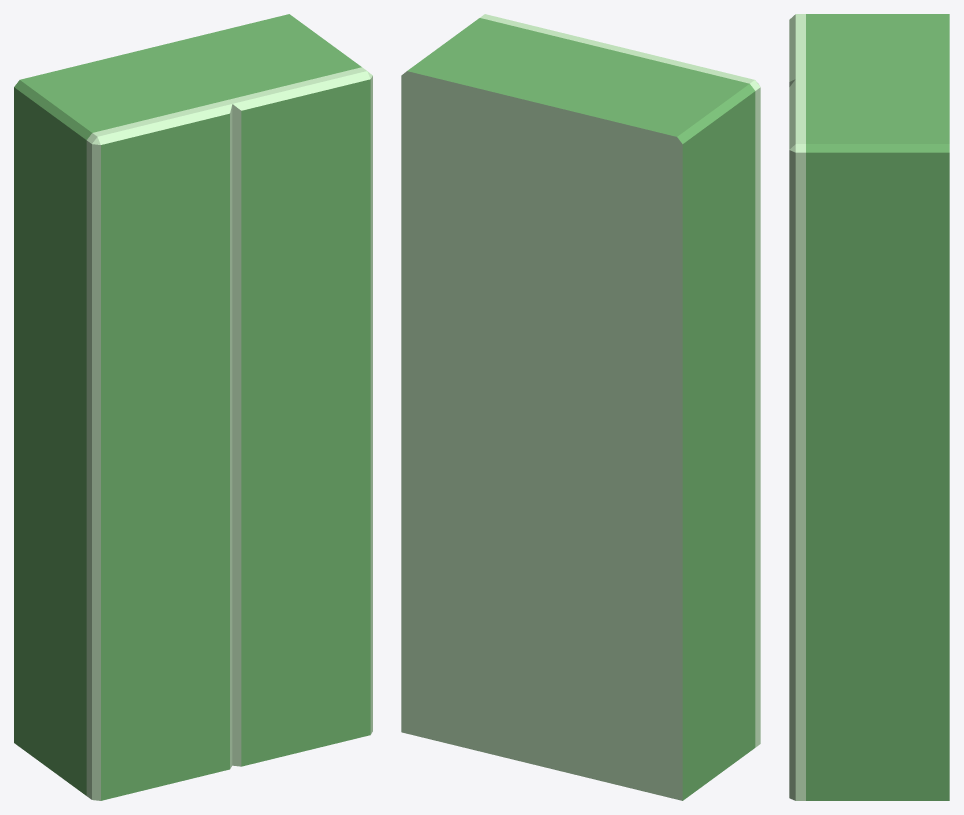
The model's file is Refridgerator.fbx.
The picture shows the model from 3 angles, left to right: view 1: azimuth 30°, elevation 25°; view 2: azimuth 150°, elevation 25°; view 3: azimuth 270°, elevation 25°; orthographic projection.
Visible parts, largest first — view 1: LeftDoor, RightDoor, RefridgeratorBase; view 2: RefridgeratorBase, LeftDoor, RightDoor; view 3: RefridgeratorBase, RightDoor, LeftDoor.
Boxes of the visible parts, x1,y1,x2,y2 form: LeftDoor: (86,100,232,800); RightDoor: (227,67,372,766); RefridgeratorBase: (14,14,361,795); RefridgeratorBase: (401,18,755,800); LeftDoor: (615,47,760,747); RightDoor: (480,14,619,50); RefridgeratorBase: (806,14,949,800); RightDoor: (789,79,805,800); LeftDoor: (789,14,805,86).
Size of the model in its own units: 400 by 900 by 200.
